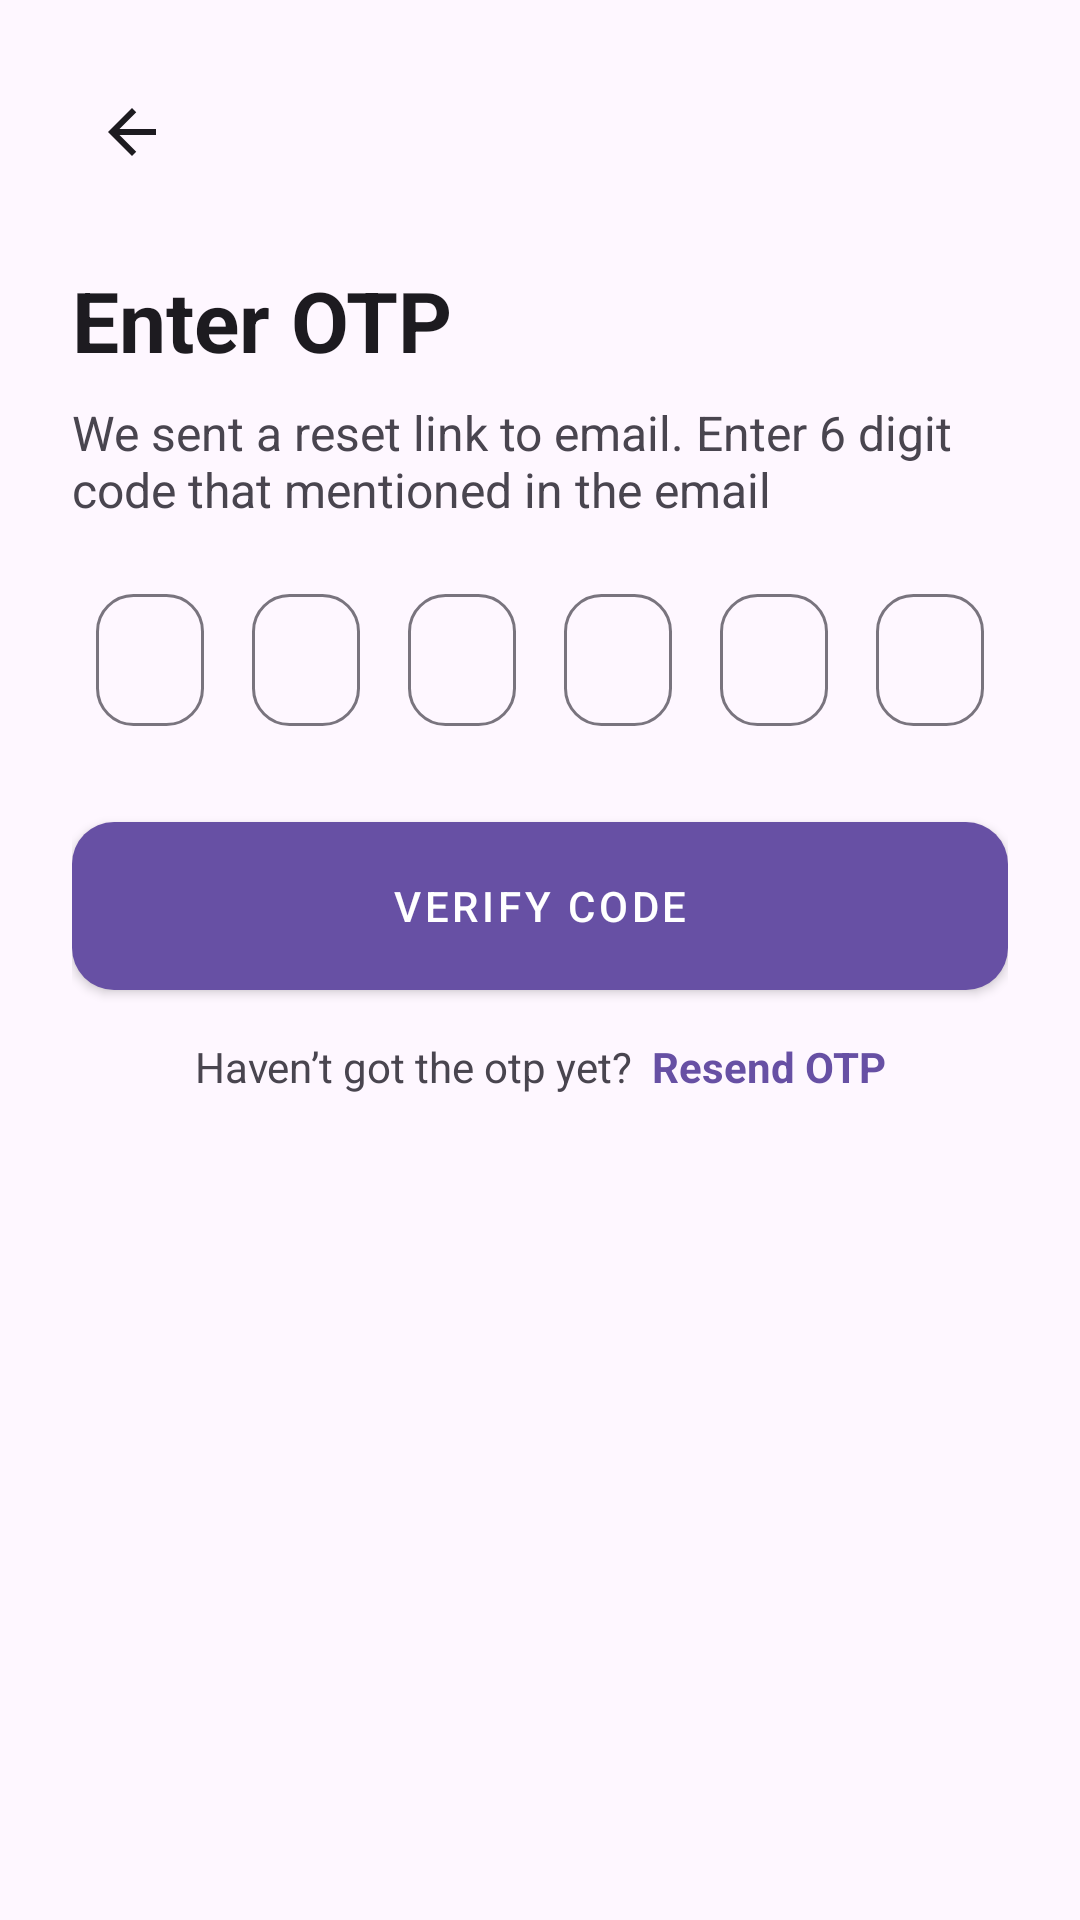

Named icons in this screenshot (1080px×1920px) and their centers, point (x, y):
arrow back: point (132, 132)
